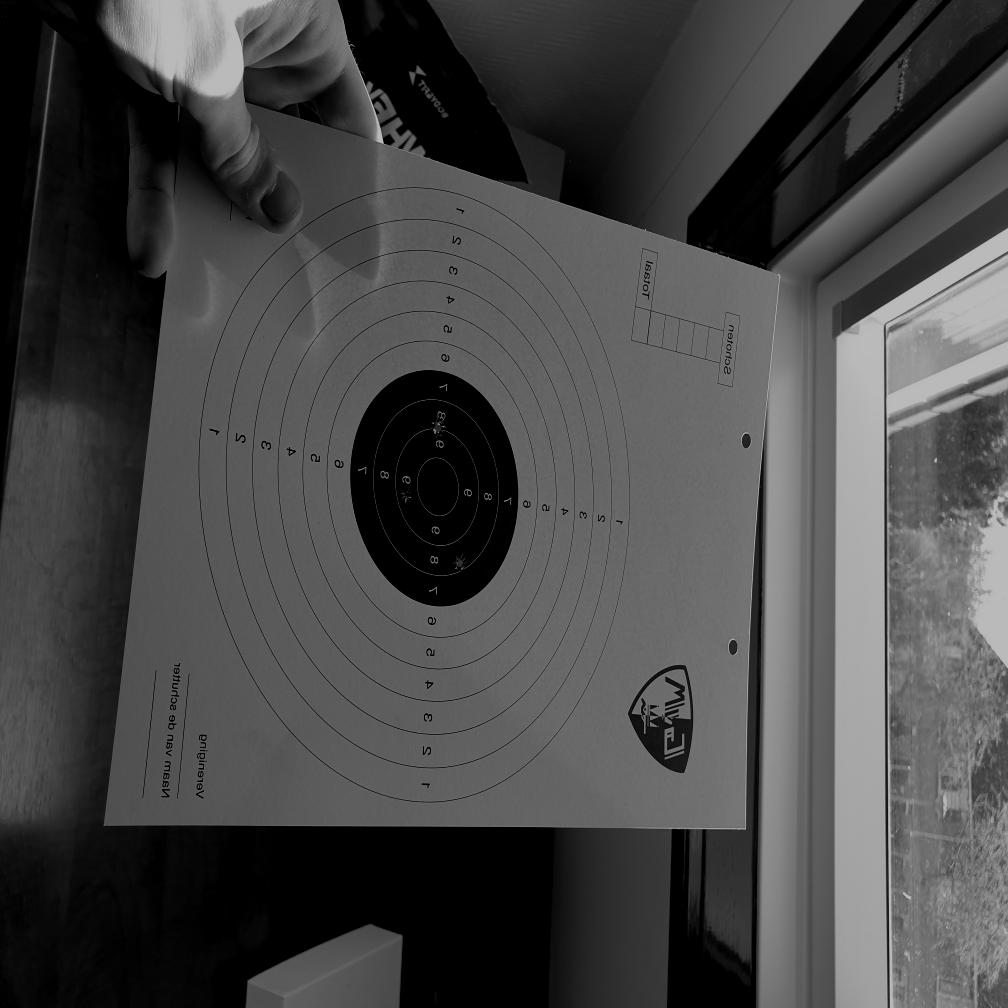8: (453, 554, 468, 571)
9: (431, 416, 446, 437), (400, 484, 414, 504)
Target: (197, 182, 631, 804)
black_contour: (350, 370, 519, 606)
